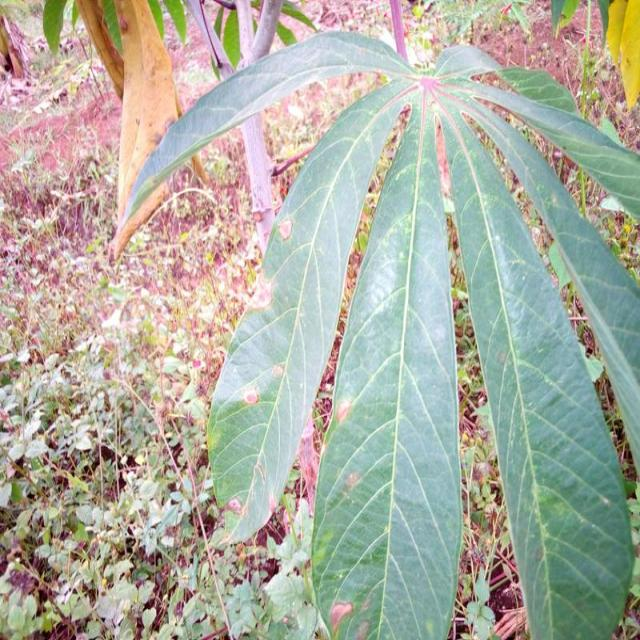cassava leaf: (114, 25, 638, 638), (439, 86, 635, 638), (205, 77, 416, 546), (308, 89, 463, 638)
